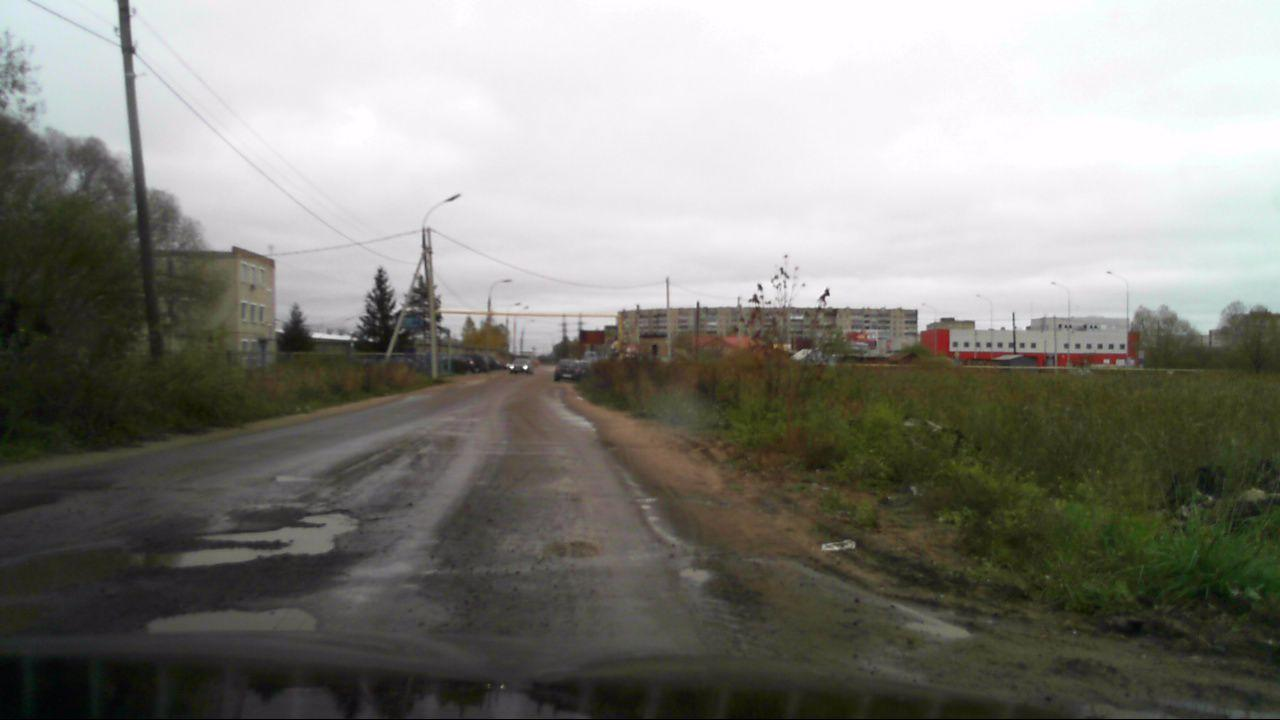pothole: (0, 508, 365, 601), (145, 604, 324, 632)
